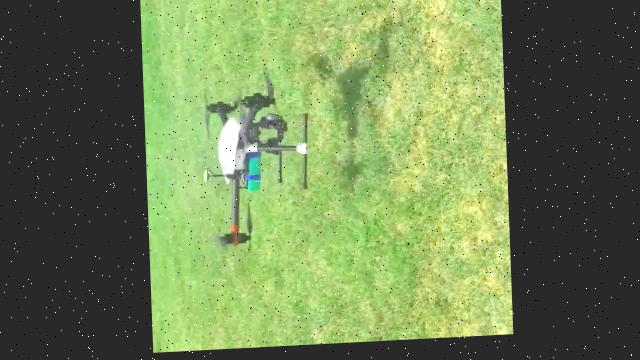drone: (196, 85, 310, 255)
